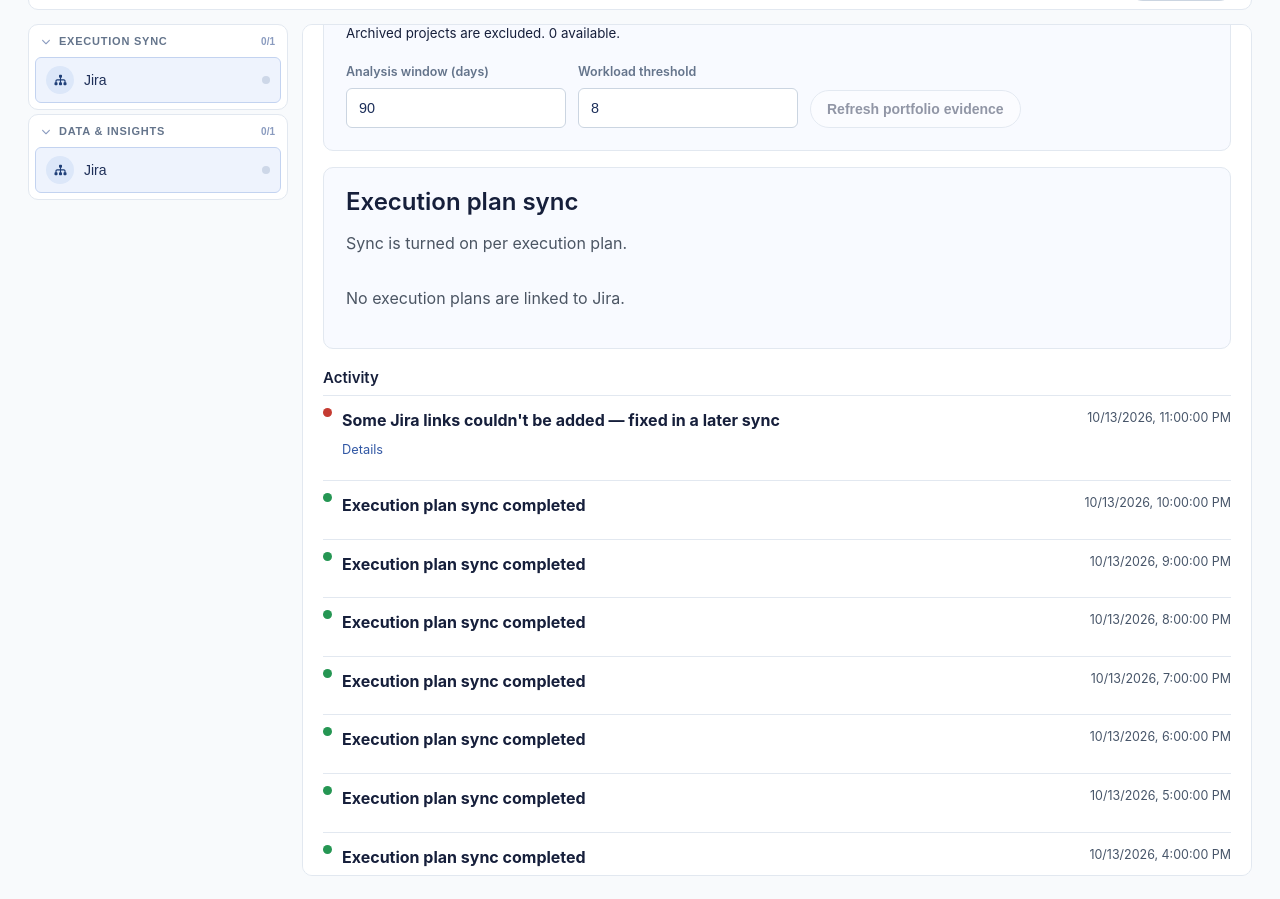
hides raw provider errors behind Details and shows activity 10 at a time
(page scrolled)
Expected: the text "Some Jira links couldn't be added — fixed in a later sync" is shown, [342,410,780,430]
Expected: the text "about:blank" is not shown
Click the button "Details" at (363, 450), box [342,440,383,460]
(page scrolled)
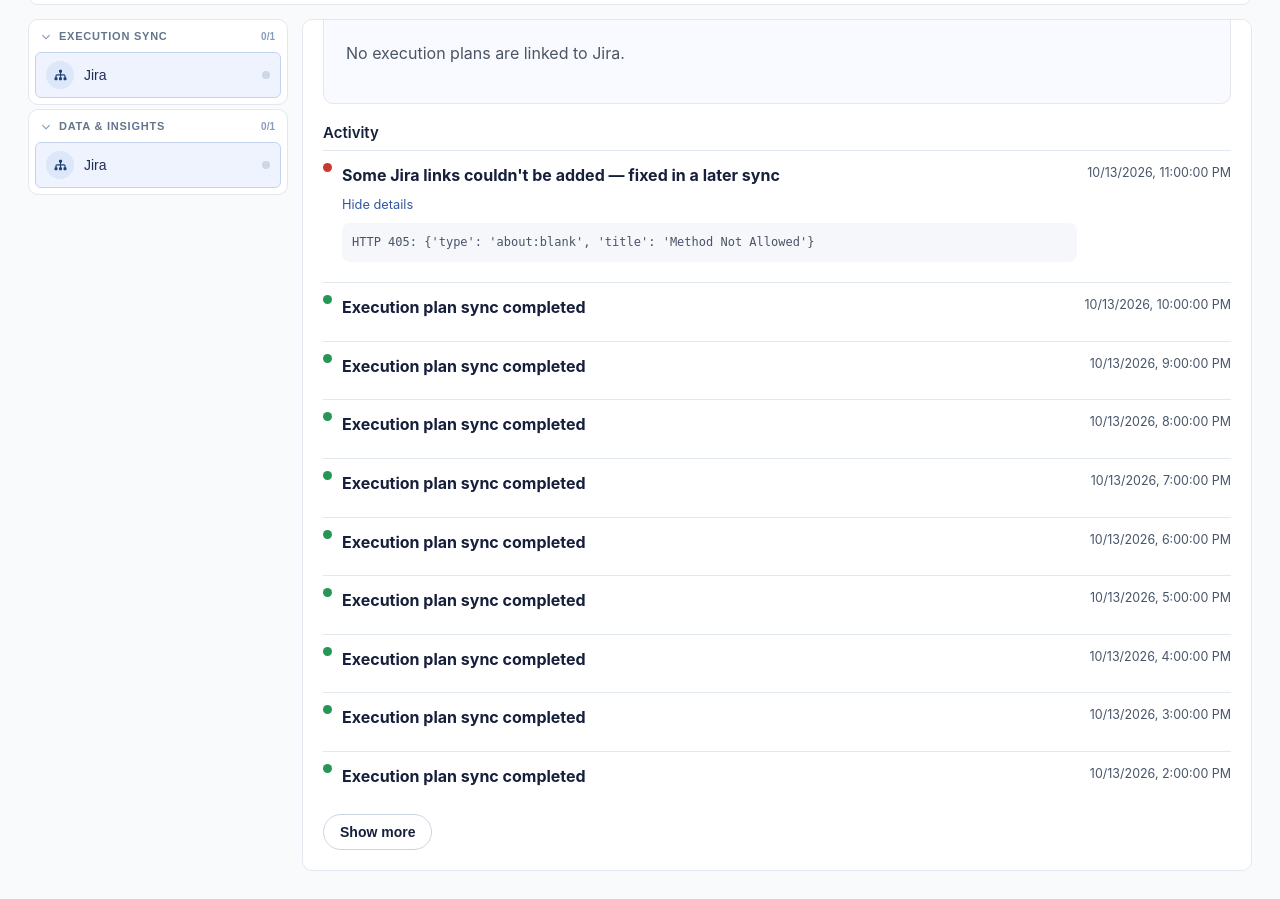
Expected: the text "about:blank" is shown, [352,235,814,249]
Click the button "Show more" at (378, 832), box [323,814,432,850]
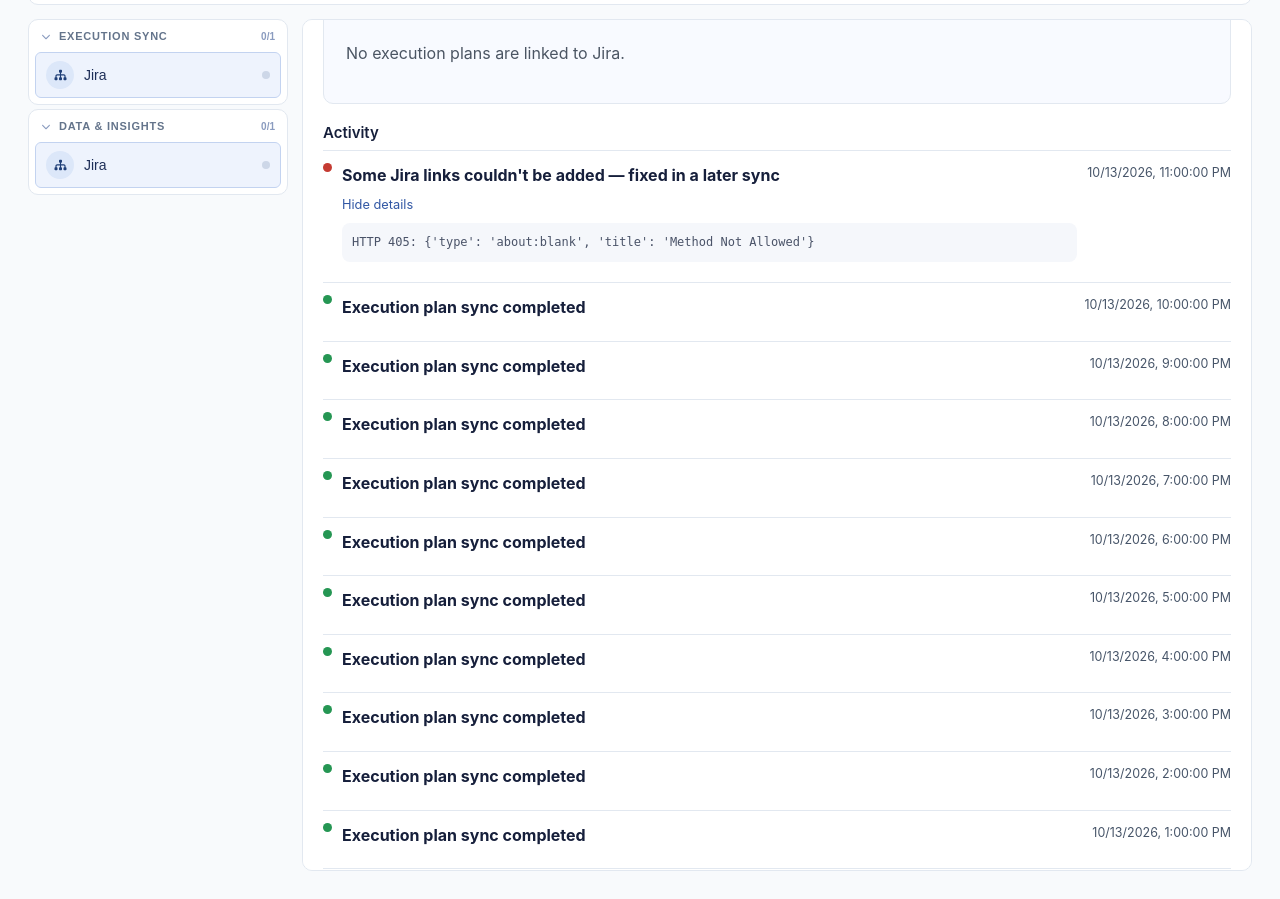
Expected: the button "Show more" is gone
